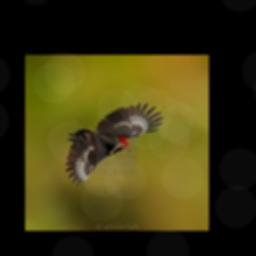Woodpecker: (64, 102, 164, 186)
